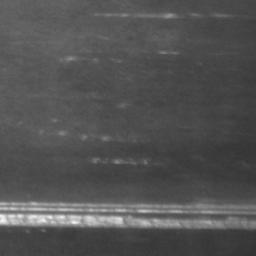Bright scratch: (0, 202, 256, 232)
